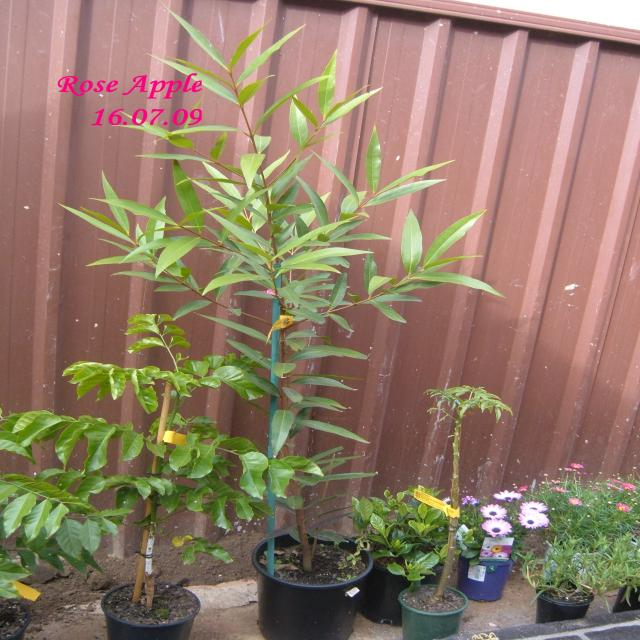Medicinal-Rose Apple: (164, 23, 428, 341), (38, 164, 248, 304), (356, 202, 514, 348)
